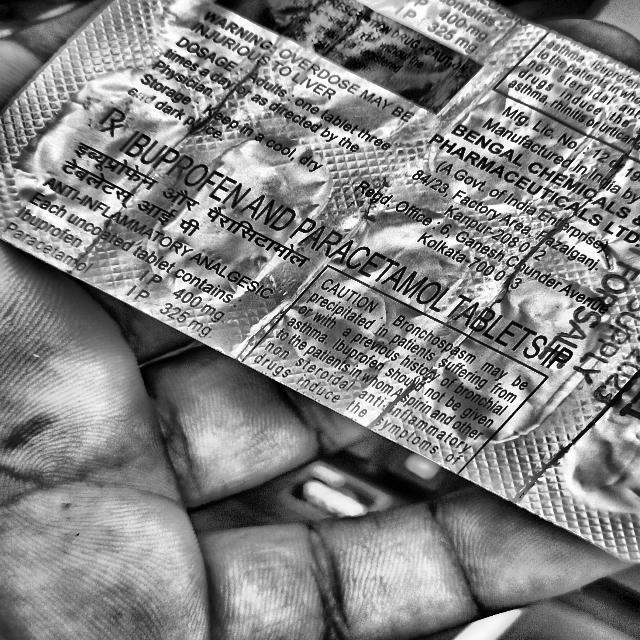IBUPROFEN AND PARACETAMOL TABLETS: (97, 121, 581, 380)
